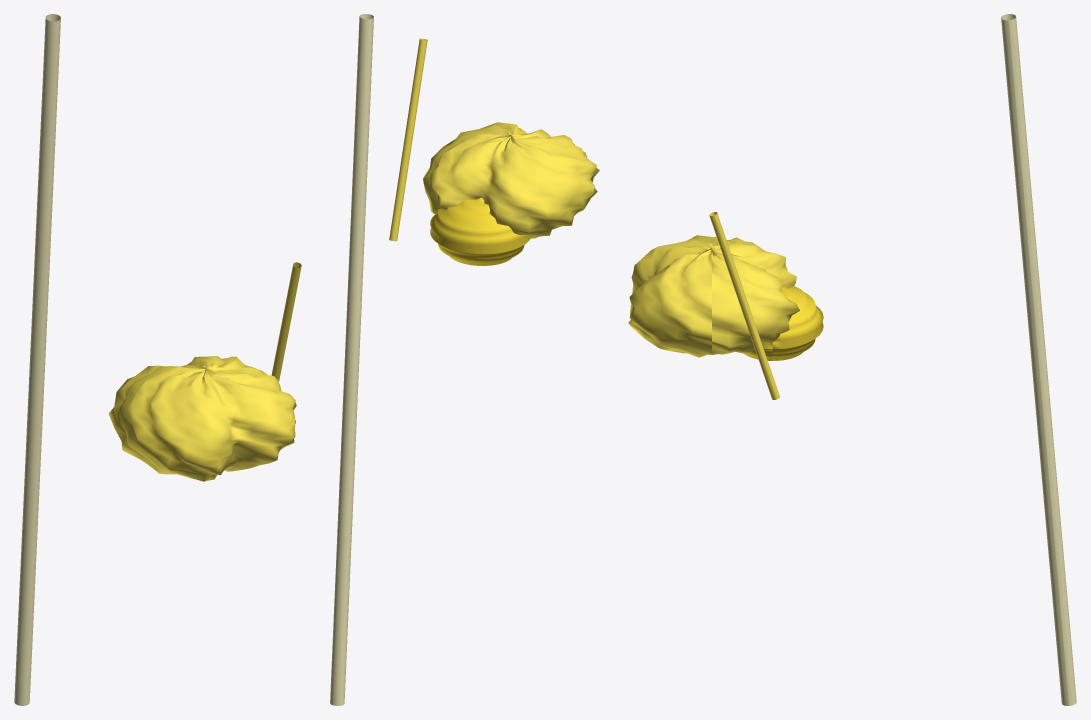
Rendered from nervous.glb.
3 renders of one model, left to right at view 1: azimuth 30°, elevation 25°; view 2: azimuth 150°, elevation 25°; view 3: azimuth 270°, elevation 25°, orthographic. The views are drawn at different scales.
Visible parts, largest first — view 1: Mesh_Bovine_Cerebrum, Mesh_Bovine_MedullaSpinalis, Mesh_Bovine_NervusCornualis; view 2: Mesh_Bovine_Cerebrum, Mesh_Bovine_MedullaSpinalis, Mesh_Bovine_Cerebellum, Mesh_Bovine_NervusCornualis; view 3: Mesh_Bovine_Cerebrum, Mesh_Bovine_MedullaSpinalis, Mesh_Bovine_Cerebellum, Mesh_Bovine_NervusCornualis.
Boxes of the visible parts, left/top/right/bottom form: Mesh_Bovine_Cerebrum: left=108, top=356, right=296, bottom=481; Mesh_Bovine_MedullaSpinalis: left=14, top=14, right=60, bottom=705; Mesh_Bovine_NervusCornualis: left=271, top=262, right=301, bottom=381; Mesh_Bovine_Cerebrum: left=422, top=122, right=599, bottom=238; Mesh_Bovine_MedullaSpinalis: left=330, top=14, right=373, bottom=705; Mesh_Bovine_Cerebellum: left=430, top=197, right=531, bottom=265; Mesh_Bovine_NervusCornualis: left=389, top=38, right=427, bottom=241; Mesh_Bovine_Cerebrum: left=628, top=235, right=799, bottom=357; Mesh_Bovine_MedullaSpinalis: left=1001, top=14, right=1076, bottom=705; Mesh_Bovine_Cerebellum: left=743, top=286, right=823, bottom=360; Mesh_Bovine_NervusCornualis: left=709, top=212, right=779, bottom=399.
Size of the model in its own units: 0.4175 by 1.62 by 0.9604.
